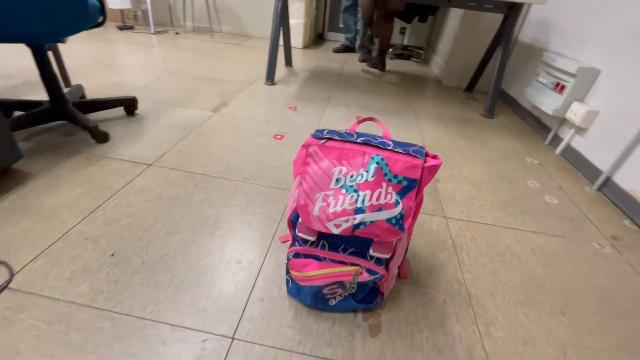Backpack: (272, 110, 440, 323)
Lamp: (104, 1, 138, 34)
Stool: (177, 0, 225, 40)
